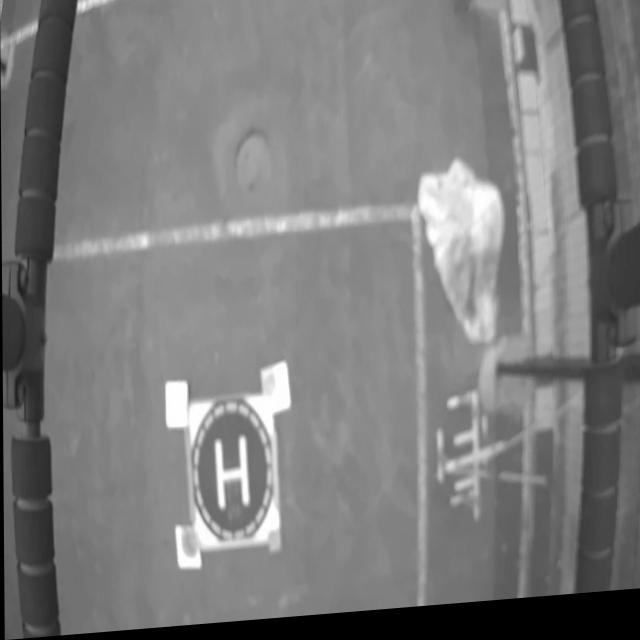Helipad: (212, 436, 251, 520)
